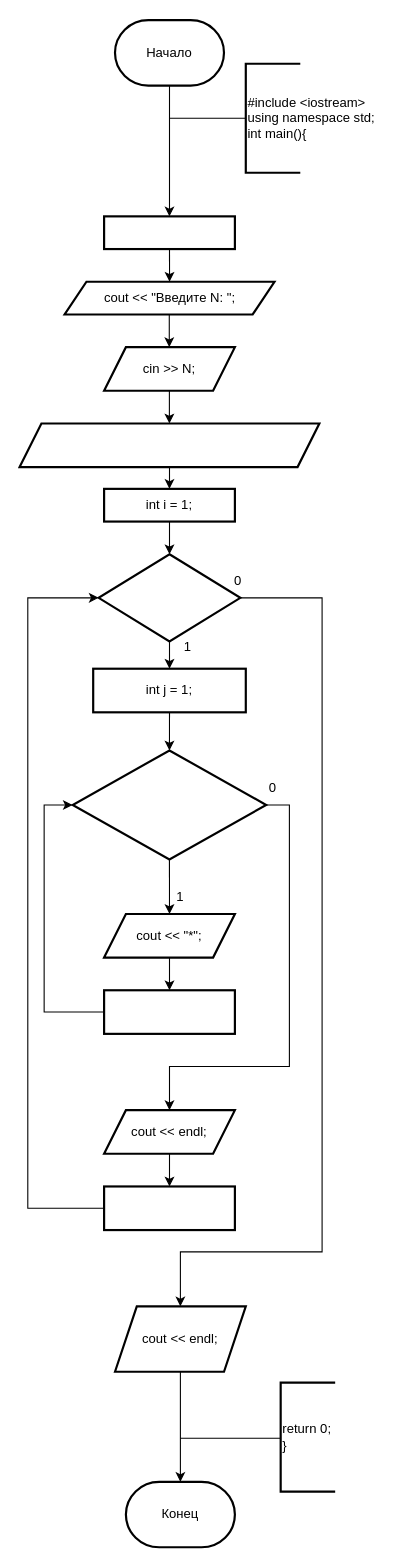
Image size: 395x1566. Some labels were removed from this diagram. The centre of each missing label's shape, as x and y in pixels:
cout << "2. Заполненный квадрат:" << endl;: the point at 169,445
int N;: the point at 168,232
j++;: the point at 168,1011
stroka++;: the point at 168,1208
while (i <= N): the point at 169,597
while (j <= N): the point at 169,804
